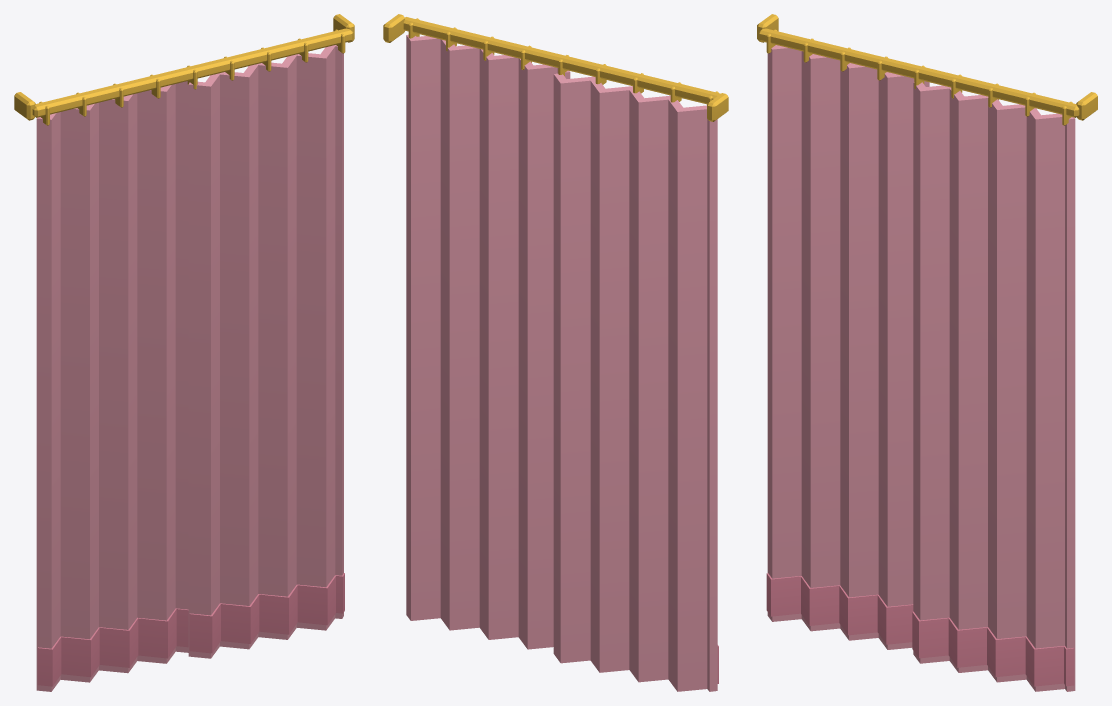
Rendered from cortina-colorido.glb.
3 views of the same model, side by side, from view 1: azimuth 30°, elevation 25°; view 2: azimuth 150°, elevation 25°; view 3: azimuth 330°, elevation 25° (orthographic).
Parts seen in each view (by area): view 1: pano, barra, varao; view 2: pano, varao; view 3: pano, barra, varao.
Boxes of the visible parts, x1,y1,x2,y2 form: pano: [36, 45, 343, 691]; barra: [37, 573, 344, 686]; varao: [14, 14, 354, 125]; pano: [406, 34, 717, 691]; varao: [383, 14, 728, 121]; pano: [767, 45, 1075, 691]; barra: [766, 573, 1074, 686]; varao: [757, 14, 1097, 125].
Bounding box in the file's own units: 1.11 × 1.91 × 0.1515.
